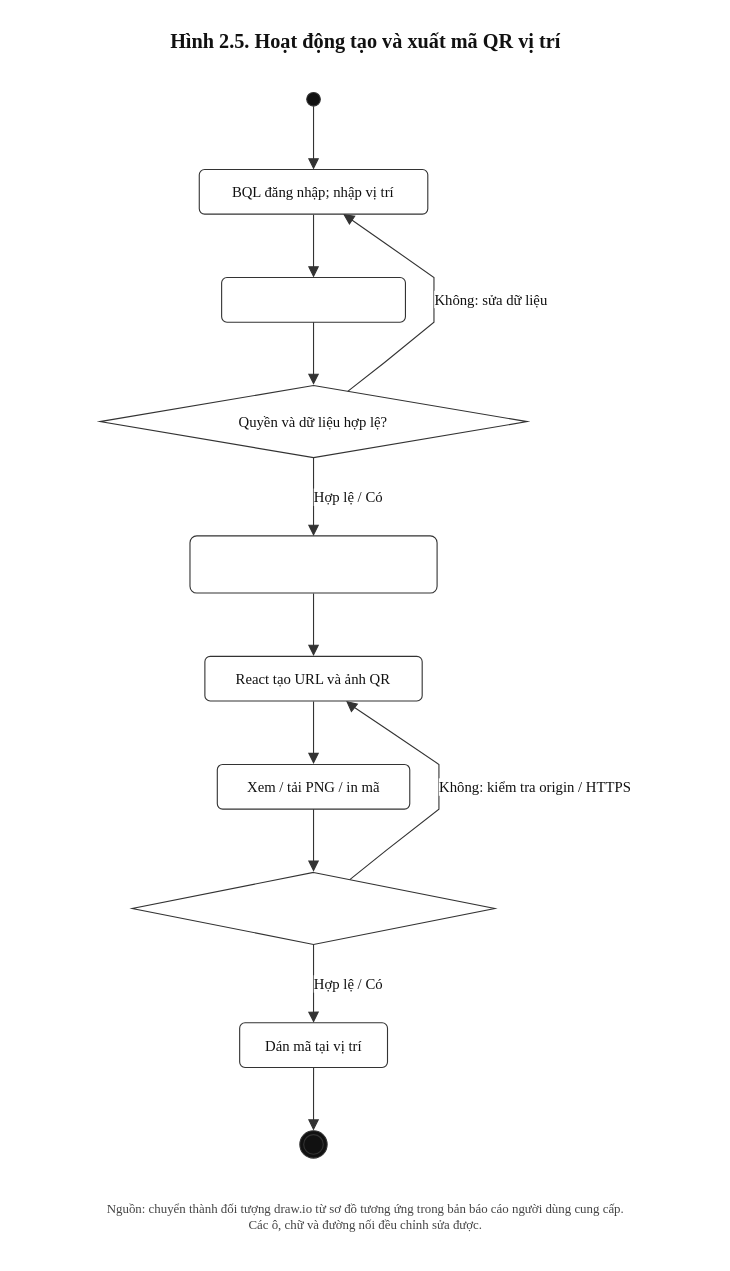
Some shapes in this 730 by 1271 pixel diagram are drawn without their labels. Here are the shapes that lost their labels. From the top down, the centre of each, then its label:
[313,299]: Chọn thiết bị nếu cần
[313,564]: Giao dịch: tạo token và vị trí; ghi lịch sử liên kết
[313,908]: Quét thử đúng vị trí?
